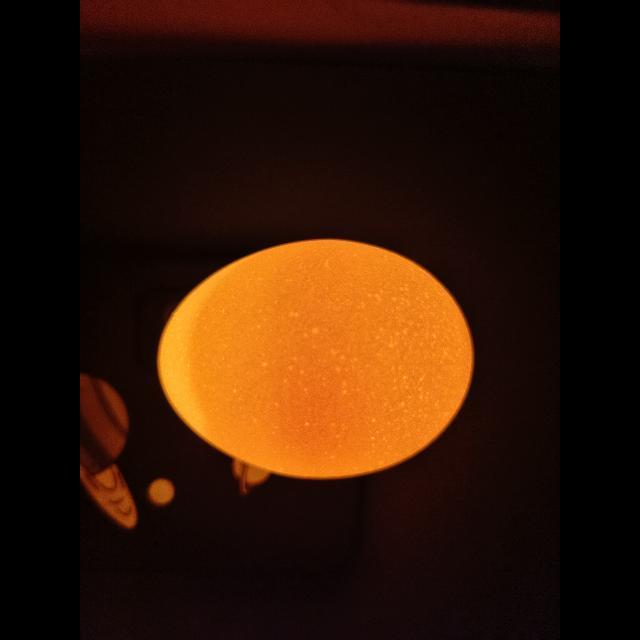AA - Premium: (158, 239, 474, 479)
